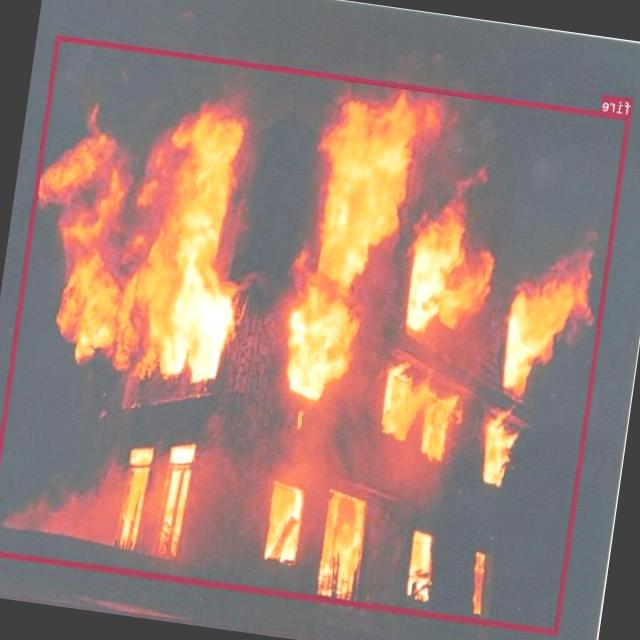fire: (0, 35, 631, 634)
